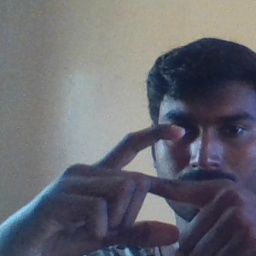E: (97, 122, 212, 250)
